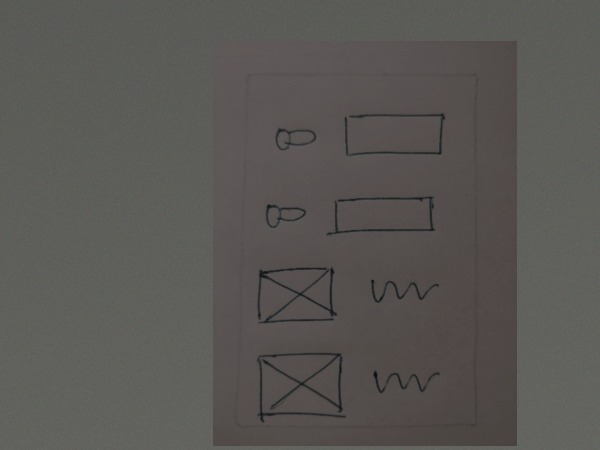image: (251, 348, 354, 424), (253, 263, 339, 329)
switch: (272, 121, 324, 154), (262, 199, 308, 234)
text: (364, 271, 443, 313), (370, 362, 441, 401)
text_input: (339, 110, 448, 159), (324, 196, 443, 236)
